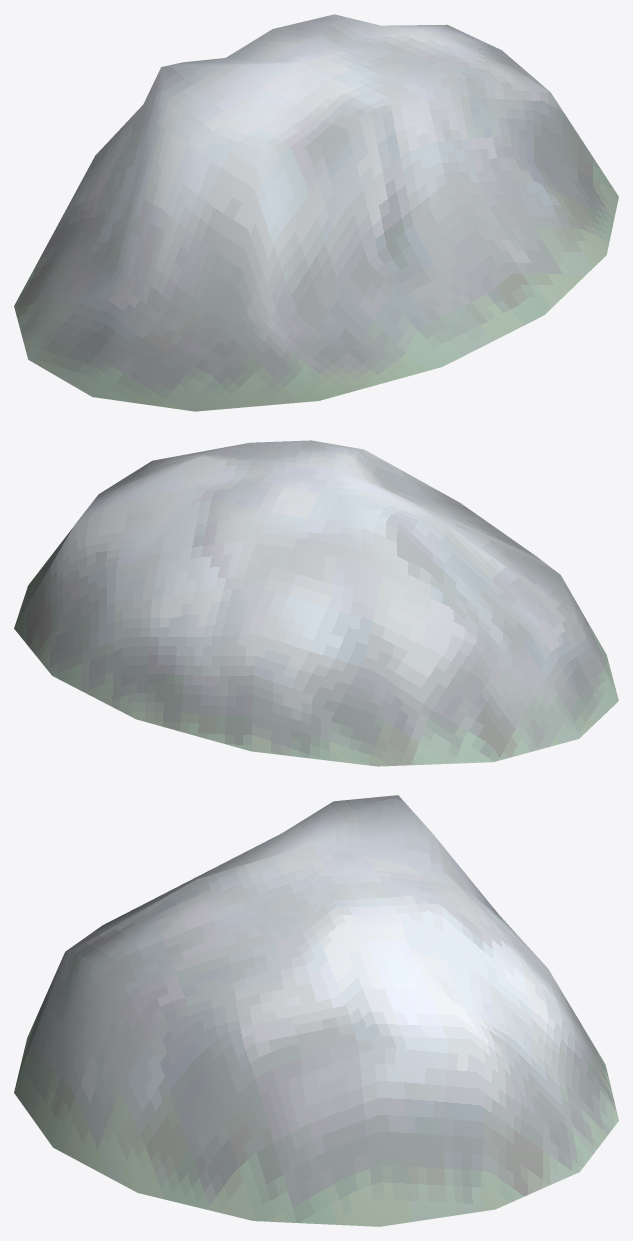
File: TROLLHOLE02_STONEA15.obj
3 renders of one model, top to bottom at view 1: azimuth 30°, elevation 25°; view 2: azimuth 150°, elevation 25°; view 3: azimuth 270°, elevation 25°, orthographic. The views are drawn at different scales.
Visible parts, largest first — view 1: StoneA15; view 2: StoneA15; view 3: StoneA15.
Boxes of the visible parts, <box> form: StoneA15: <box>14,14,618,411</box>; StoneA15: <box>14,440,618,766</box>; StoneA15: <box>14,795,618,1226</box>.
Size of the model in its own units: 174 by 66.61 by 137.
